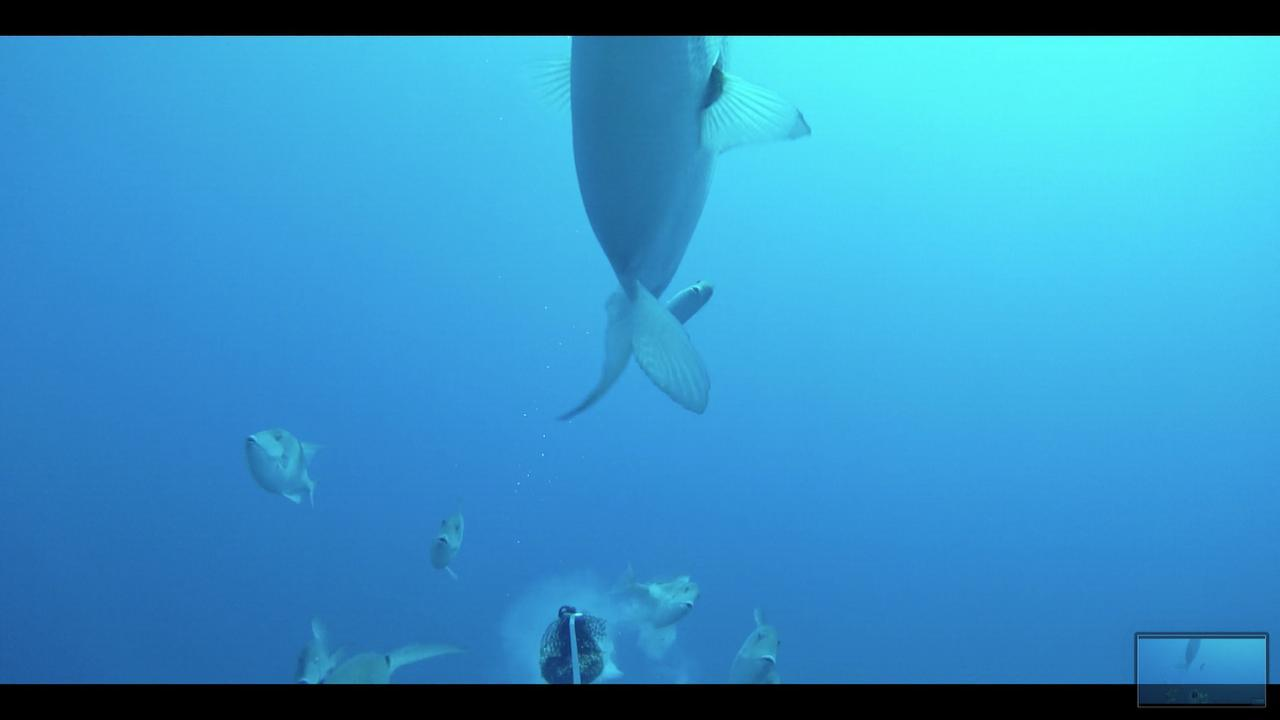balistes: (533, 34, 812, 448), (238, 421, 325, 513), (729, 599, 787, 682), (429, 489, 469, 577), (638, 575, 705, 620)
